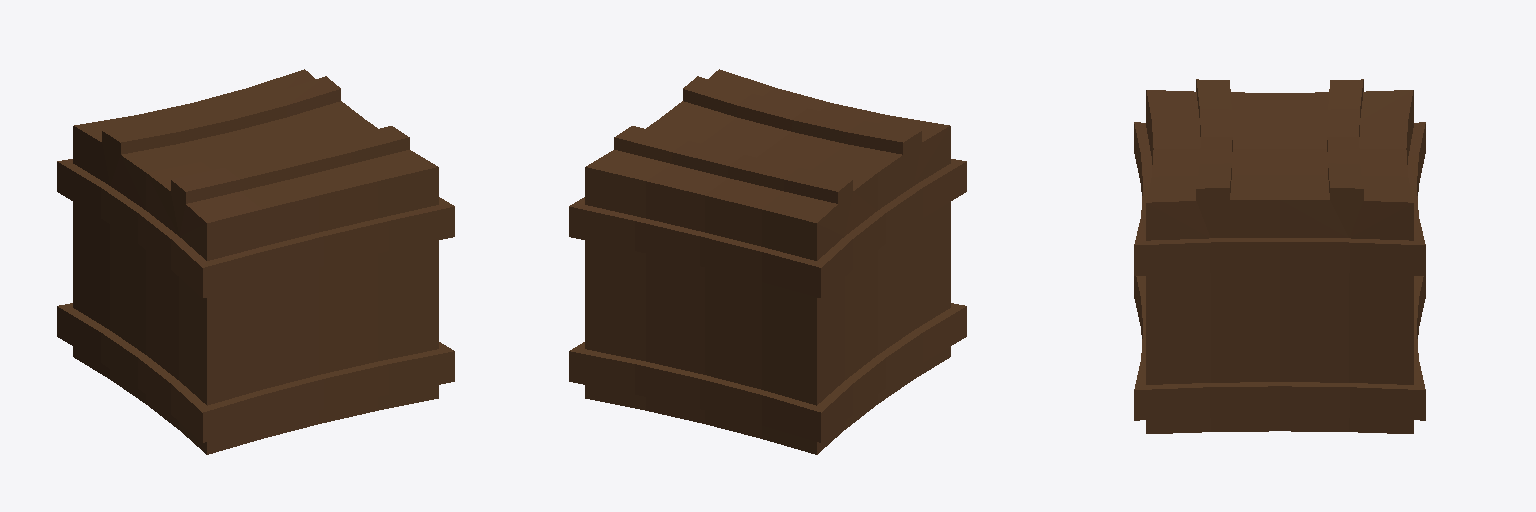
The picture shows the model from 3 angles: view 1: azimuth 30°, elevation 25°; view 2: azimuth 150°, elevation 25°; view 3: azimuth 270°, elevation 25°; orthographic projection.
Visible parts, largest first — view 1: WoodenCrate_Mesh; view 2: WoodenCrate_Mesh; view 3: WoodenCrate_Mesh.
Boxes of the visible parts, box(x1,y1,x2,y2) form: WoodenCrate_Mesh: box(57, 69, 454, 454); WoodenCrate_Mesh: box(569, 69, 966, 454); WoodenCrate_Mesh: box(1134, 79, 1425, 433).
Bounding box in the file's own units: 0.8651 × 0.7982 × 0.8651.
Materials: 1 (1 with a texture image).